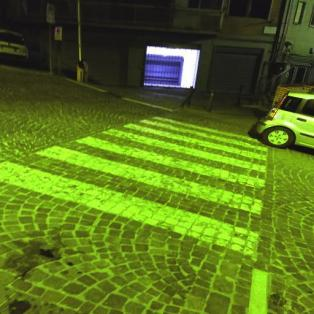Paso de Cebra: (0, 144, 266, 258)
